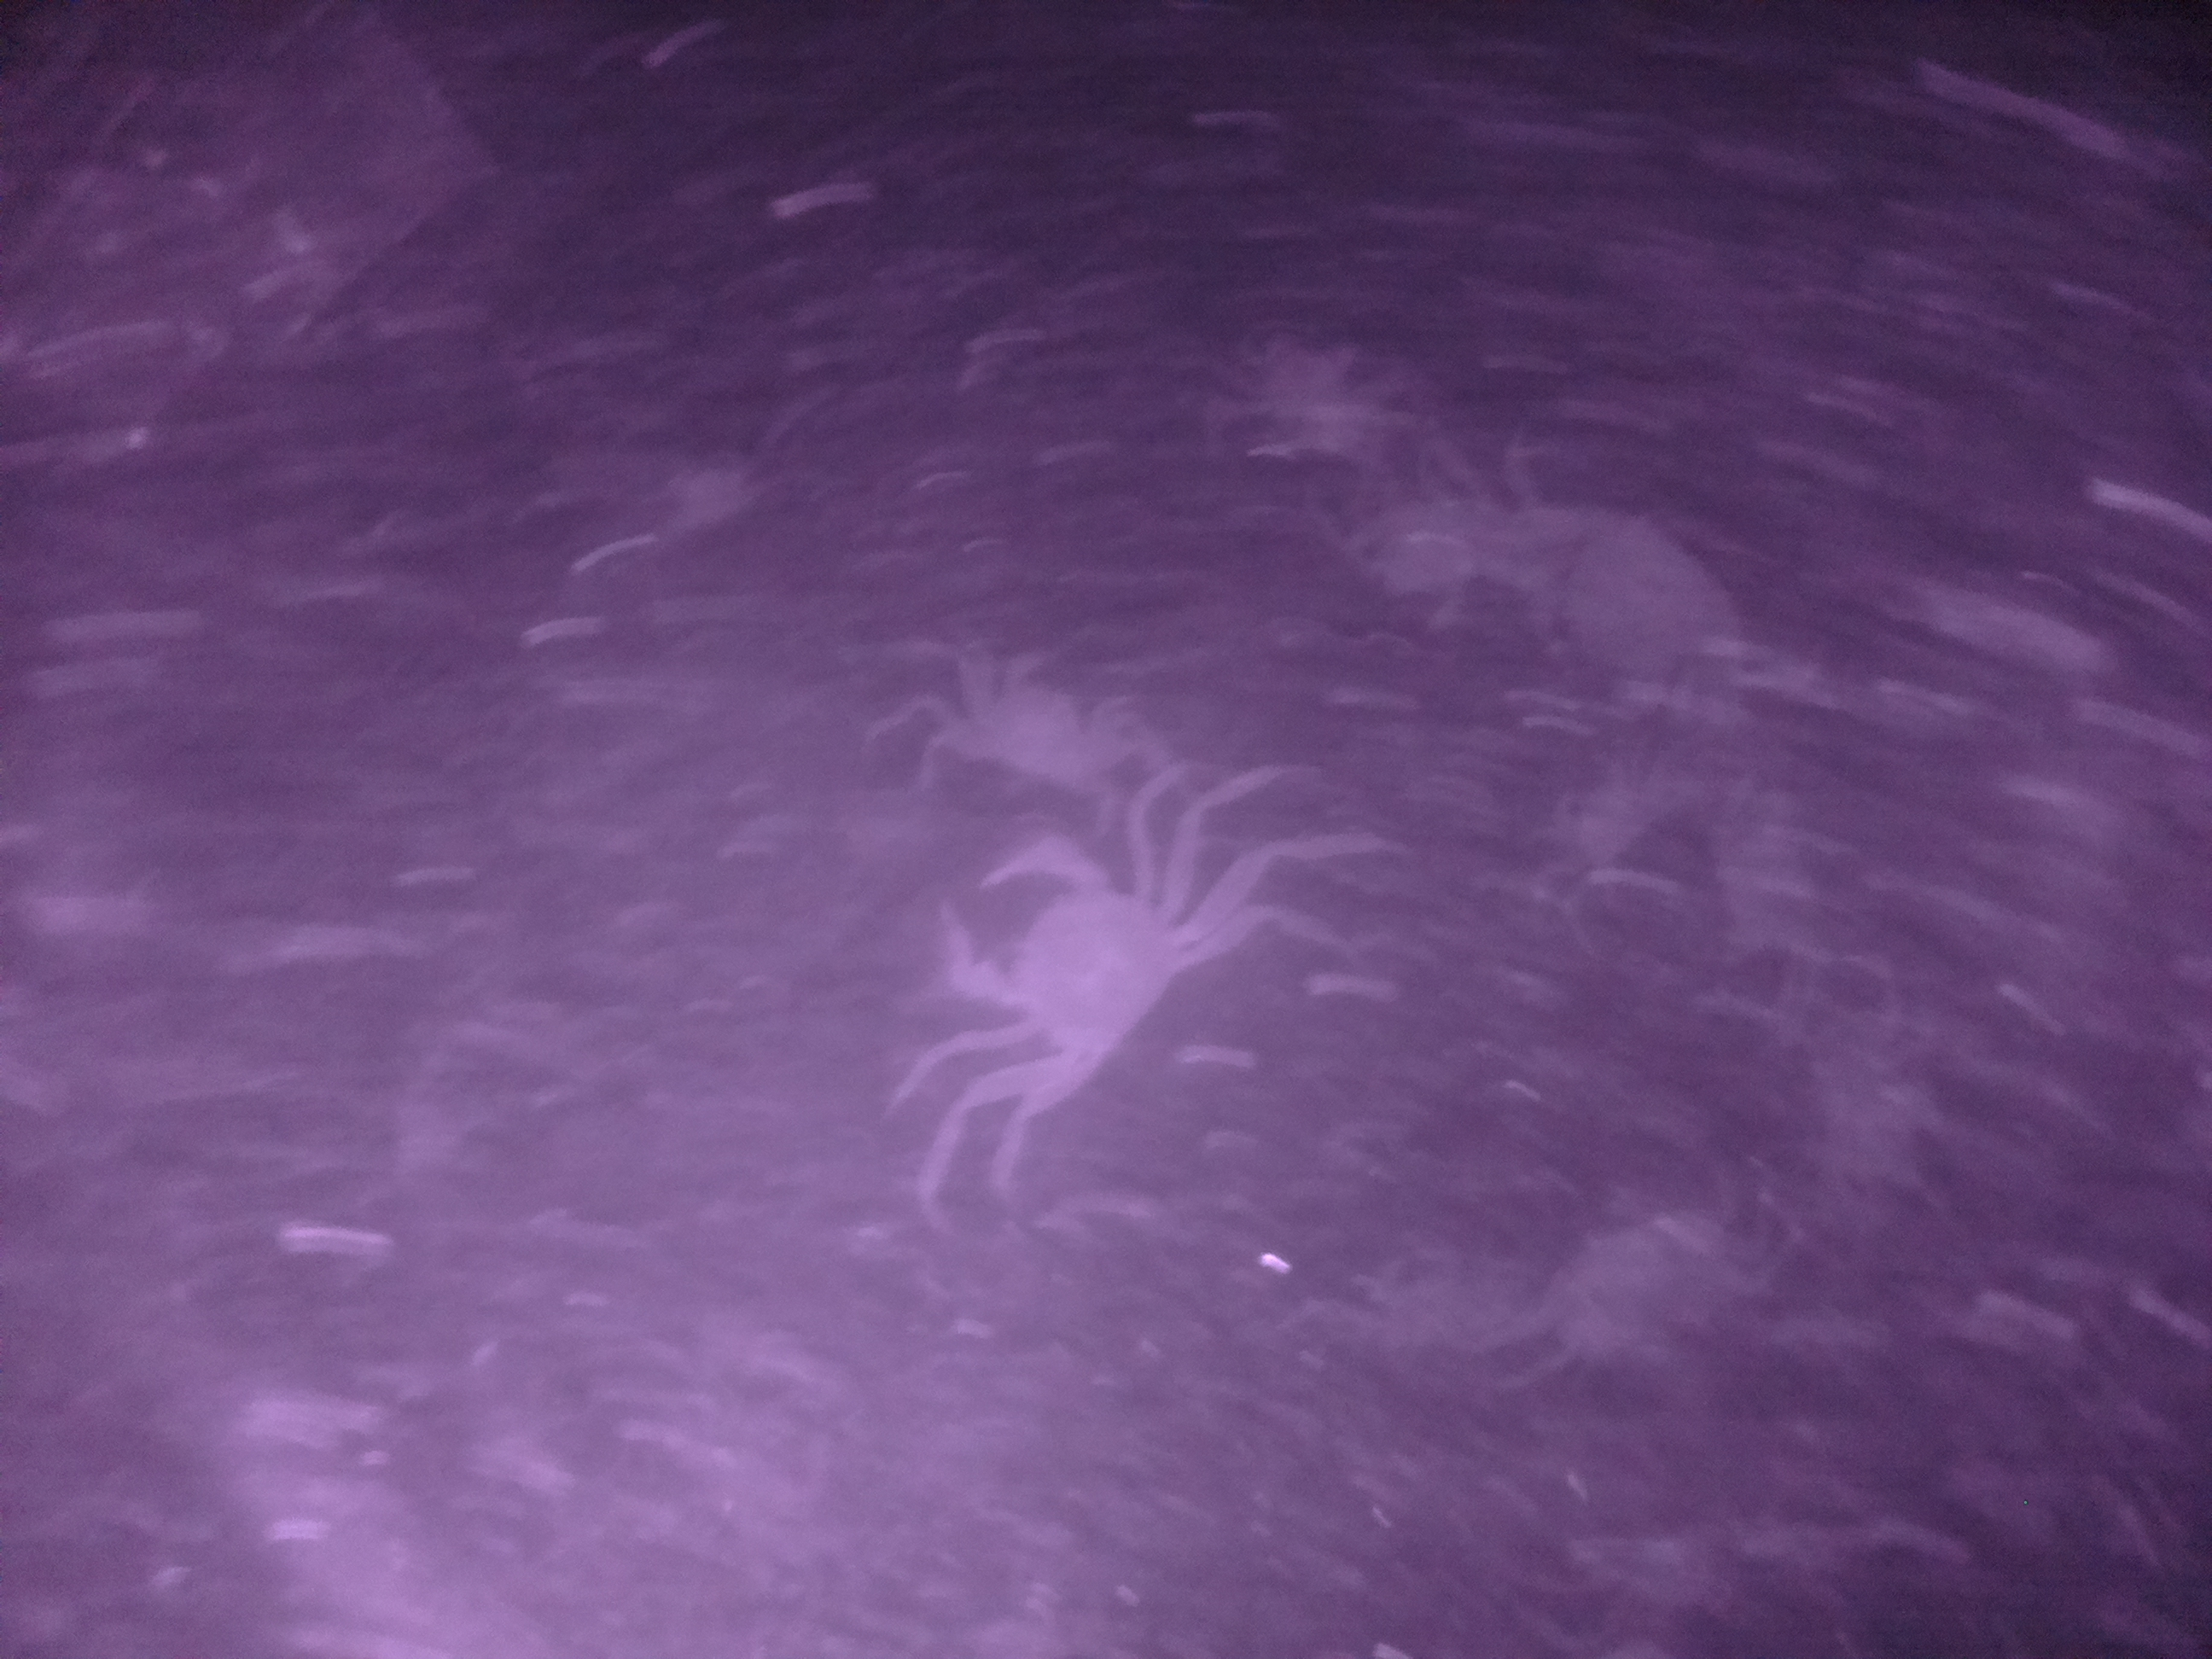Crab: (923, 826, 1193, 1112), (935, 626, 1155, 809)
